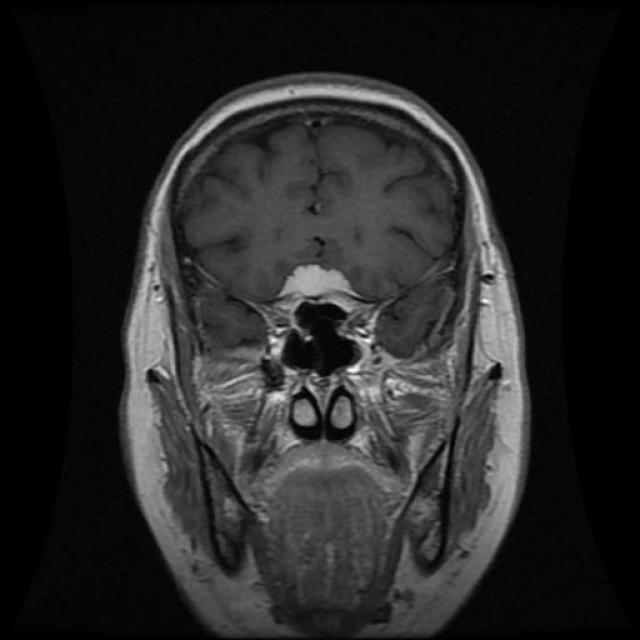meningioma: (279, 262, 362, 299)
